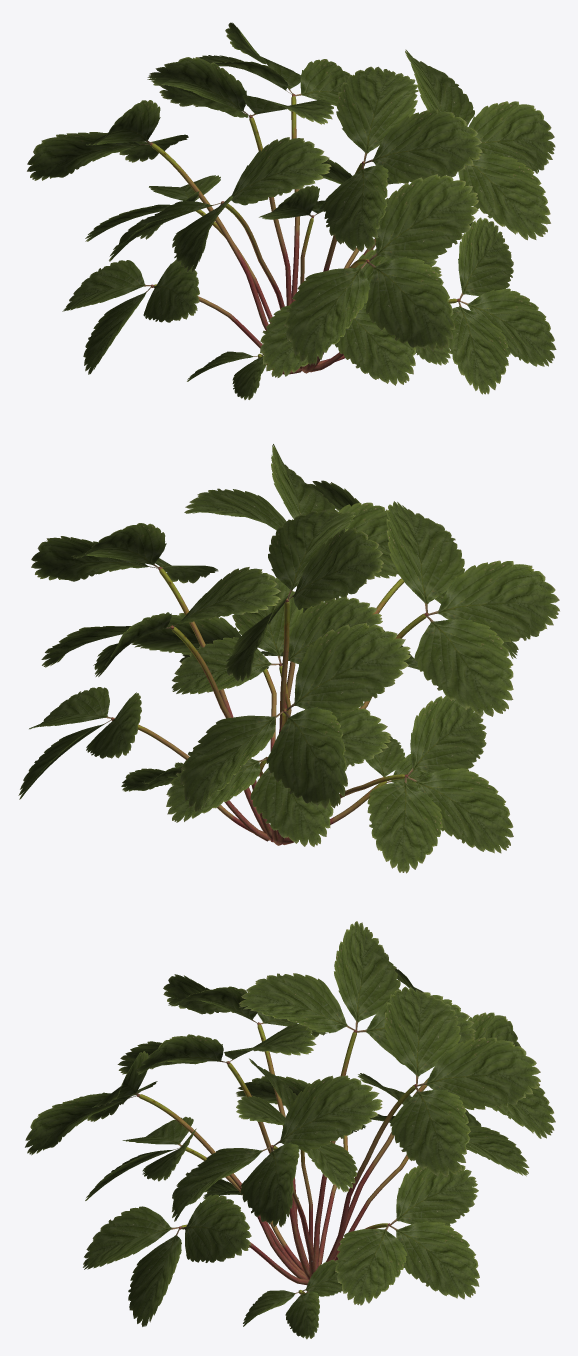
3 renders of one model, top to bottom at view 1: azimuth 30°, elevation 25°; view 2: azimuth 150°, elevation 25°; view 3: azimuth 270°, elevation 25°, orthographic. The views are drawn at different scales.
Visible parts, largest first — view 1: leaf1, branch1; view 2: leaf1, branch1; view 3: leaf1, branch1.
Boxes of the visible parts, <box> form: leaf1: <box>27,22,556,399</box>; branch1: <box>150,93,460,374</box>; leaf1: <box>18,444,559,873</box>; branch1: <box>111,567,428,845</box>; leaf1: <box>25,921,555,1339</box>; branch1: <box>137,1022,428,1294</box>.
Bounding box in the file's own units: 0.5445 × 0.5805 × 0.3738.
